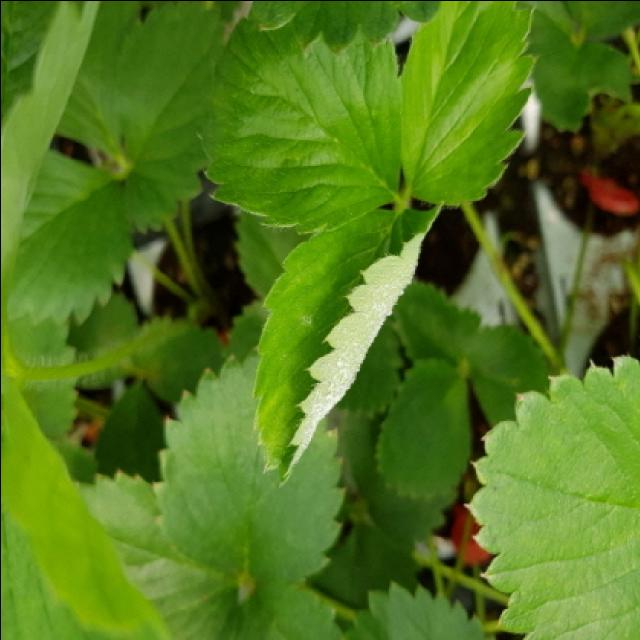Powdery Mildew Leaf: (251, 198, 443, 490)
